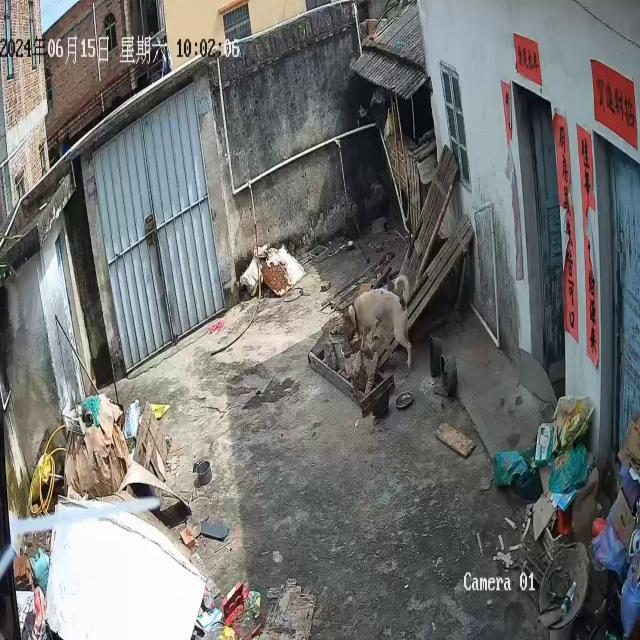dog: (345, 274, 414, 370)
